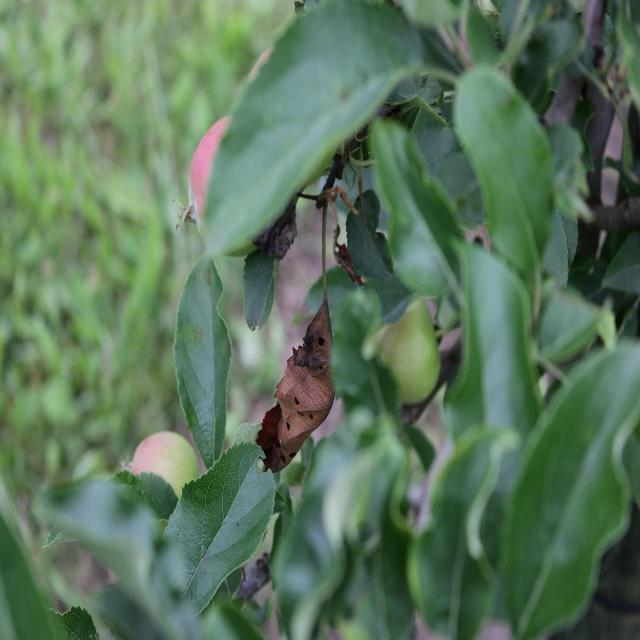-FireBlight-: (247, 220, 347, 488)
